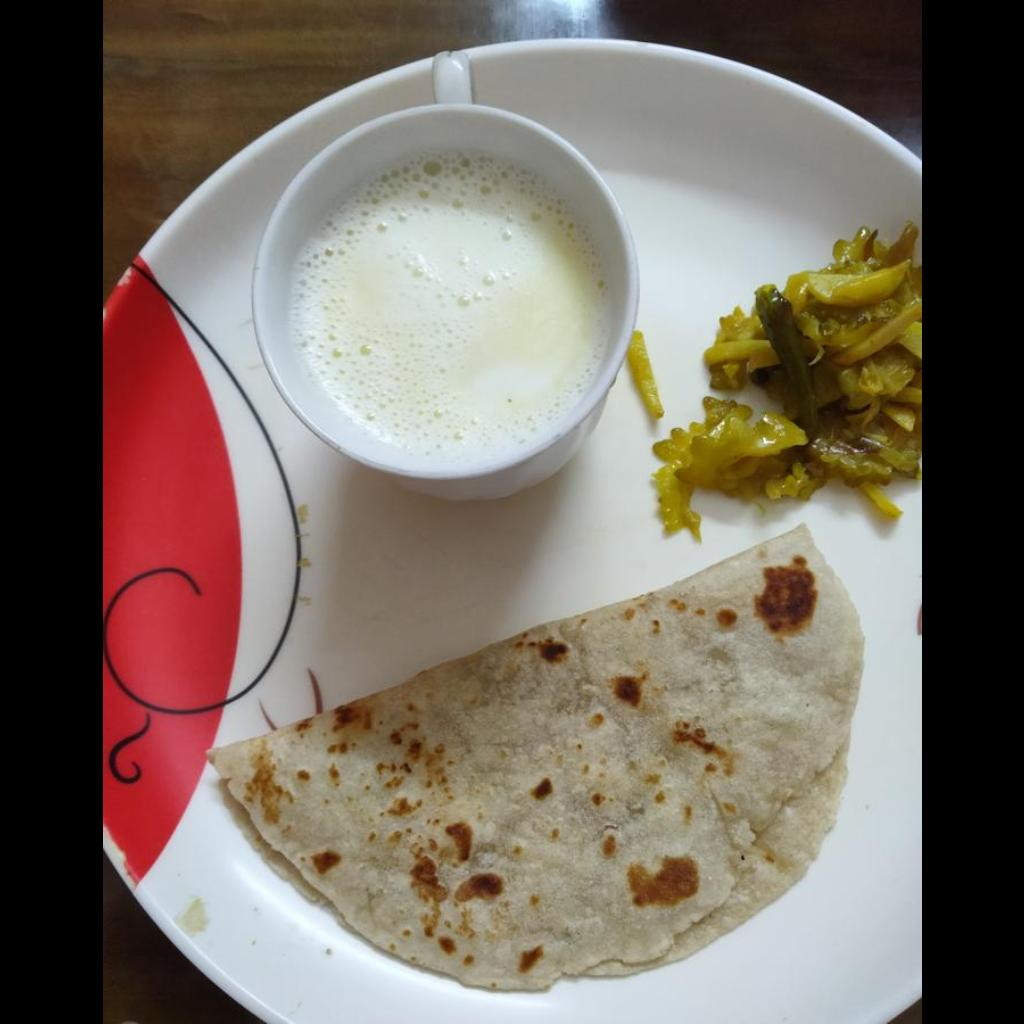milk: (288, 161, 601, 449)
ruti: (210, 523, 869, 993)
vaji: (647, 215, 920, 526)
